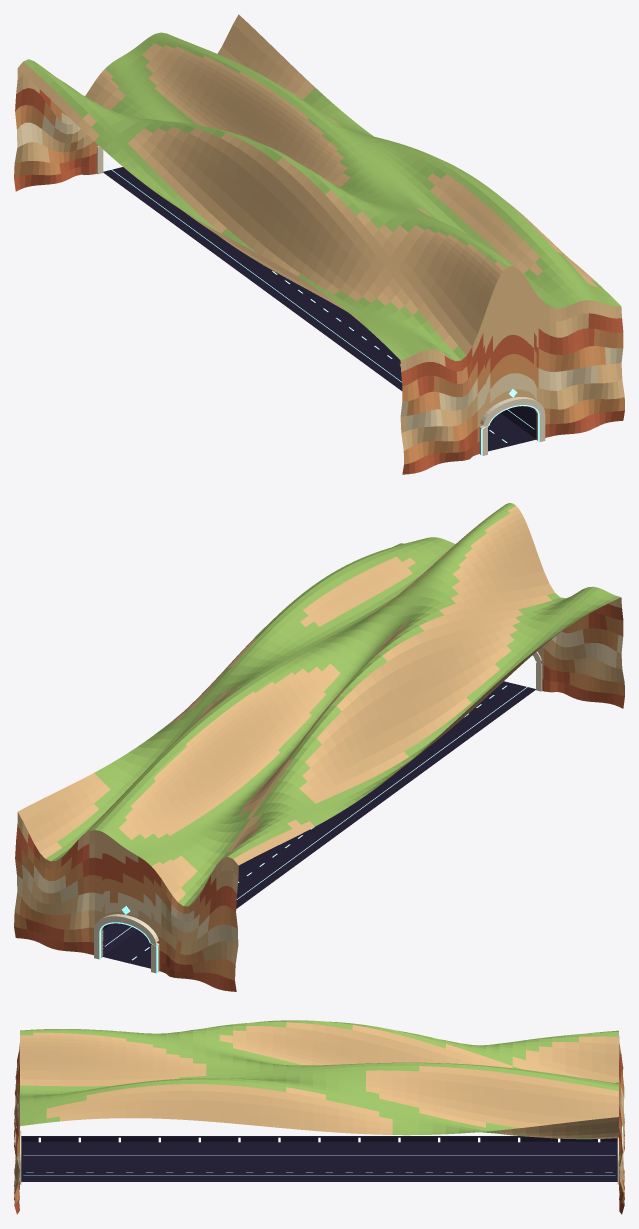
File: ridge_tunnel.glb
3 views of the same model, one above another, from view 1: azimuth 30°, elevation 25°; view 2: azimuth 150°, elevation 25°; view 3: azimuth 270°, elevation 25° (orthographic). The views are drawn at different scales.
Parts seen in each view (by area): view 1: ridge_tunnel; view 2: ridge_tunnel; view 3: ridge_tunnel.
Part boxes in pixels (x1,y1,x2,y2): ridge_tunnel: (14,14,624,474); ridge_tunnel: (14,503,624,991); ridge_tunnel: (14,1020,624,1214).
Size of the model in its own units: 60 by 47.1 by 184.
